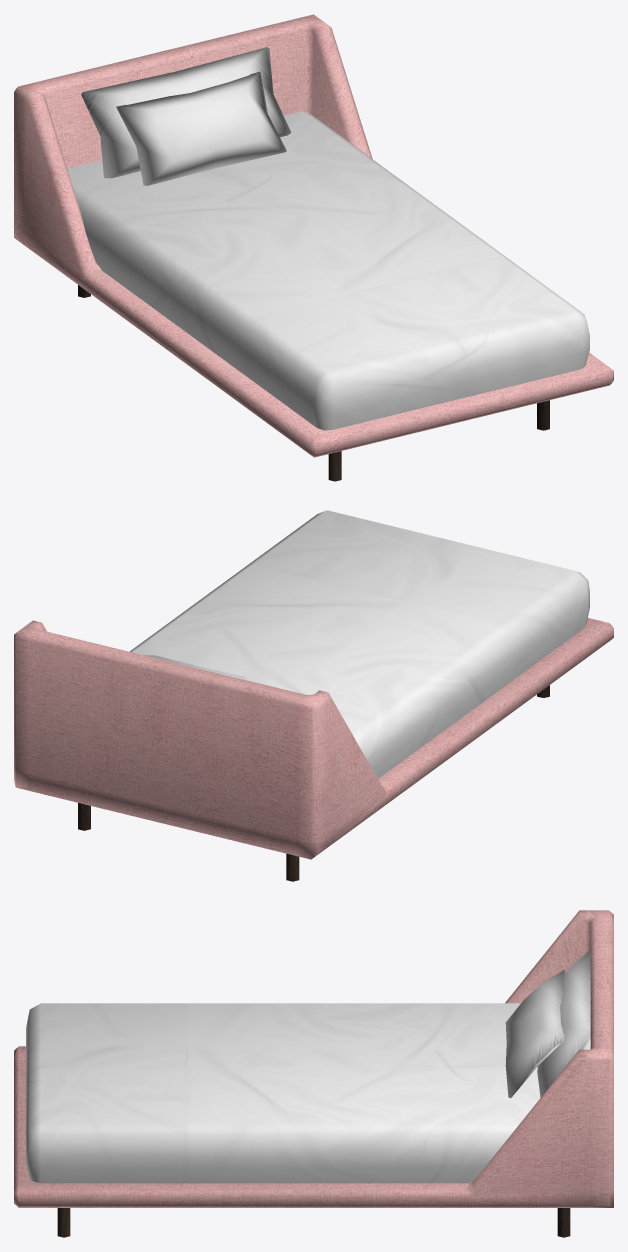
The picture shows the model from 3 angles, top to bottom: view 1: azimuth 30°, elevation 25°; view 2: azimuth 150°, elevation 25°; view 3: azimuth 270°, elevation 25°; orthographic projection.
Visible parts, largest first — view 1: Bed_01 - Default_0; view 2: Bed_01 - Default_0; view 3: Bed_01 - Default_0.
Boxes of the visible parts, bbox=[...] form: Bed_01 - Default_0: bbox=[14, 14, 613, 481]; Bed_01 - Default_0: bbox=[14, 510, 613, 881]; Bed_01 - Default_0: bbox=[14, 910, 613, 1237].
Size of the model in its own units: 35 by 22.26 by 60.
Materials: 1 (1 with a texture image).
